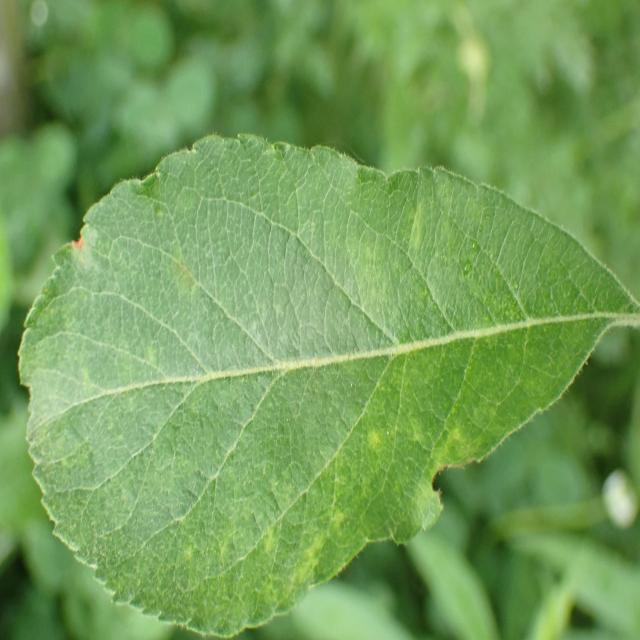scab: (46, 181, 558, 566)
